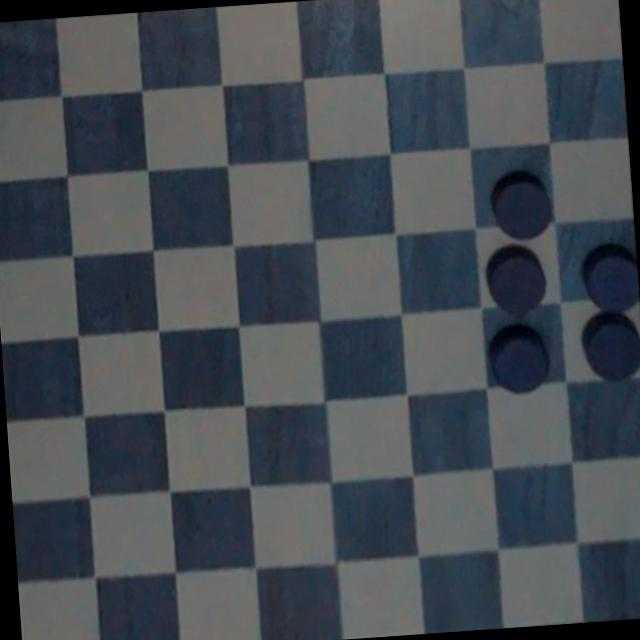BOARD: (0, 0, 640, 640)
black: (486, 145, 566, 243), (479, 323, 553, 398), (484, 243, 550, 319), (577, 236, 640, 314), (579, 311, 640, 388)
